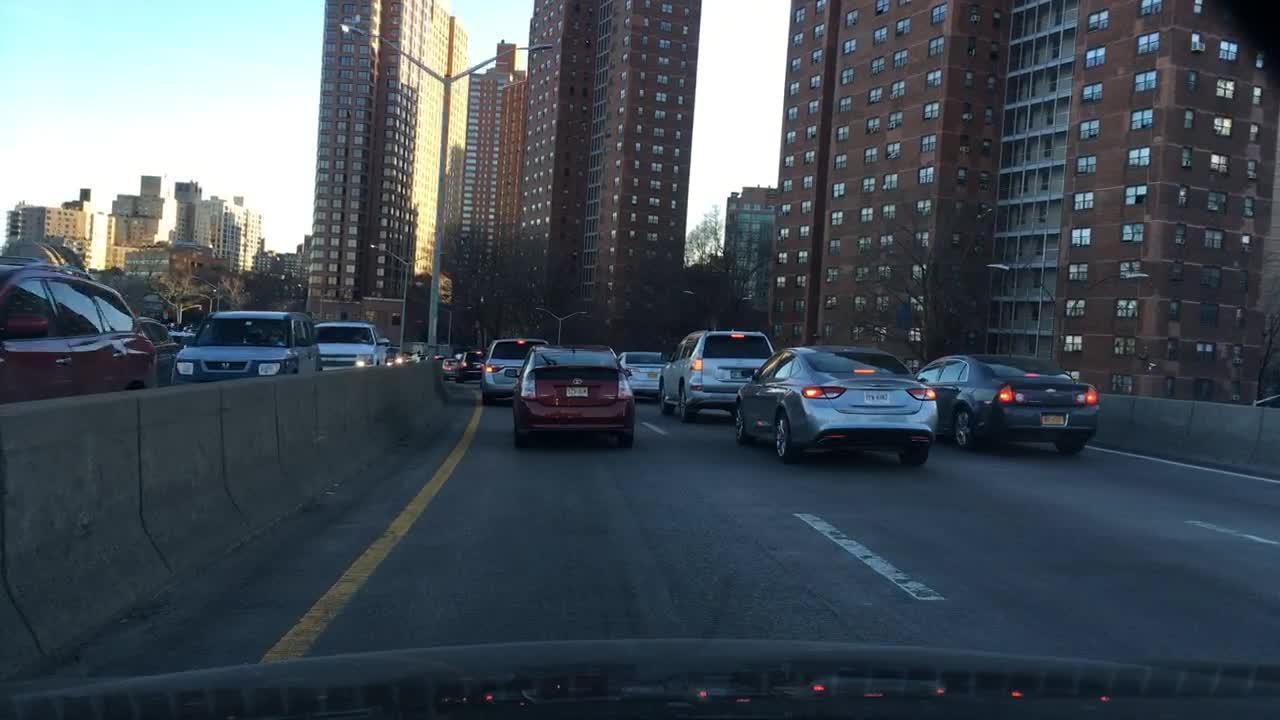Chrysler: (861, 382, 898, 393)
Honda: (219, 361, 234, 371)
Toyota: (570, 377, 586, 387)
chevrolet: (1042, 387, 1061, 396)
